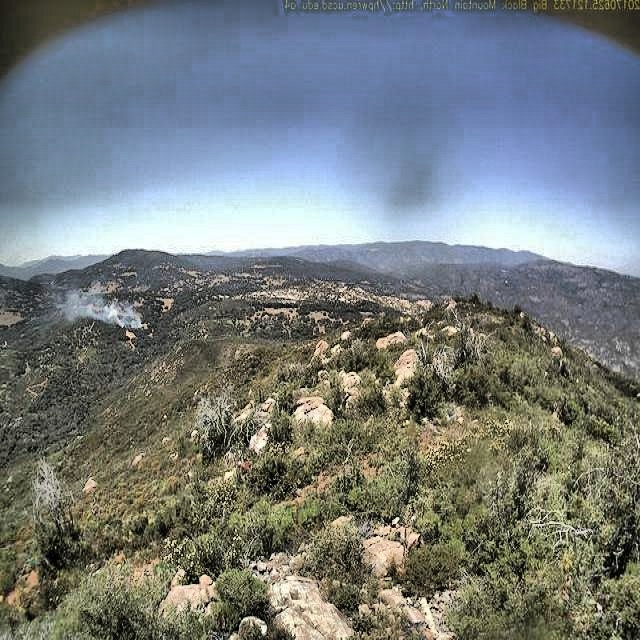smoke: (60, 278, 145, 334)
